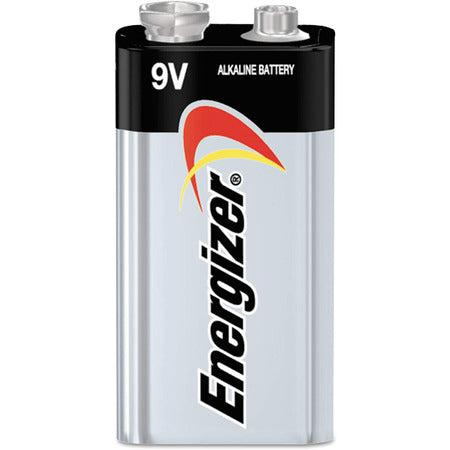9V Battery: (115, 0, 336, 450)
